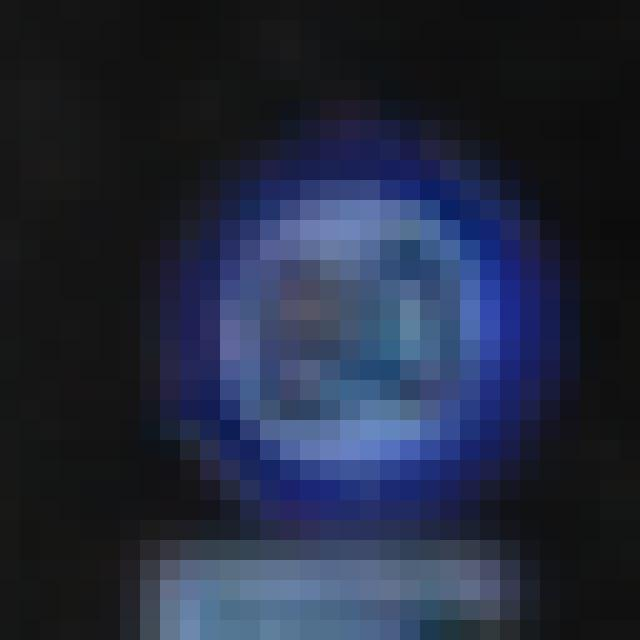SPEED-LIMIT-80: (159, 153, 529, 507)
